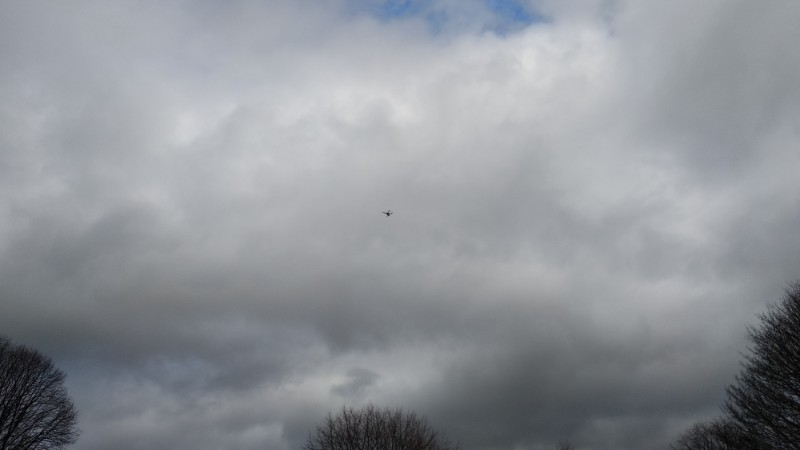drone: (382, 209, 394, 217)
